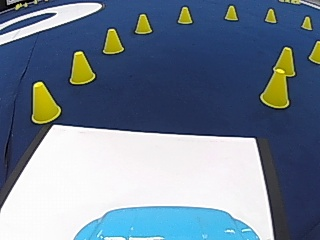cone: (259, 59, 291, 108), (30, 79, 61, 122), (68, 49, 96, 84), (273, 46, 296, 77), (102, 27, 124, 54), (134, 13, 152, 34), (176, 5, 192, 24), (307, 40, 320, 63), (224, 4, 238, 20), (264, 7, 277, 23), (300, 15, 312, 30)
